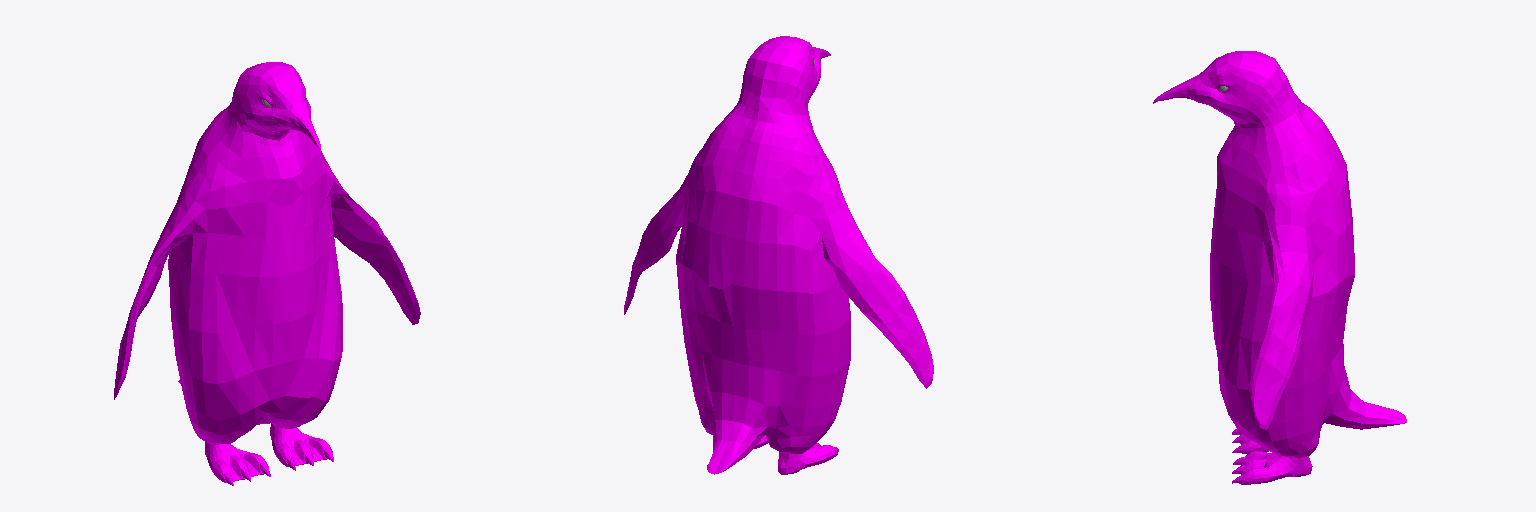
The model's file is penguin.obj.
The picture shows the model from 3 angles: view 1: azimuth 30°, elevation 25°; view 2: azimuth 150°, elevation 25°; view 3: azimuth 270°, elevation 25°; orthographic projection.
Parts seen in each view (by area): view 1: penguin; view 2: penguin; view 3: penguin.
Part boxes in pixels (x1,y1,x2,y2): penguin: (114,62,420,485); penguin: (624,36,933,474); penguin: (1153,51,1406,484).
Bounding box in the file's own units: 18.41 × 23.29 × 13.23.